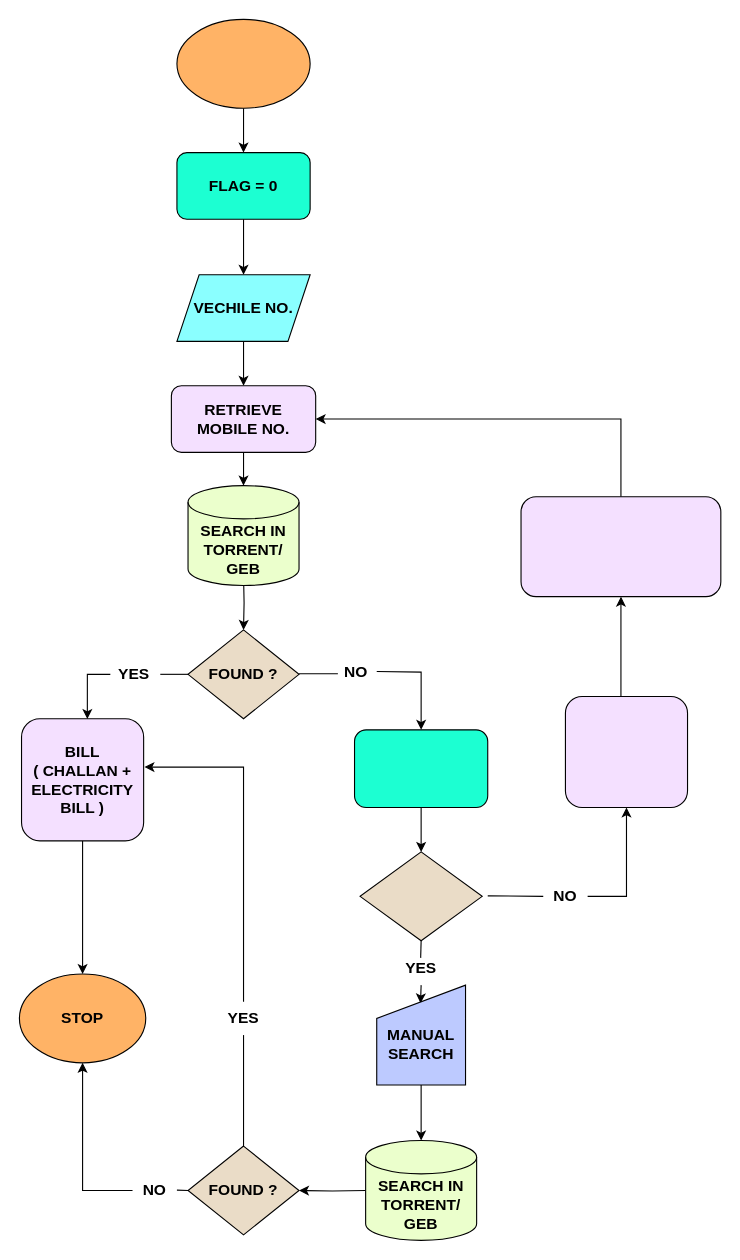
Some shapes in this 740 by 1260 pixel diagram are drawn without their labels. The centre of each missing label's shape, as x and y in pixels:
"FLAG++" belongs at point 420,768.
"IS FLAG > 0 ?" belongs at point 420,896.
"RETRIEVE AADHAR DETAILS" belongs at point 626,751.
"RETRIEVE AADHAR DETAILS OF HEAD OF FAMILY" belongs at point 620,546.
"START" belongs at point 243,63.
